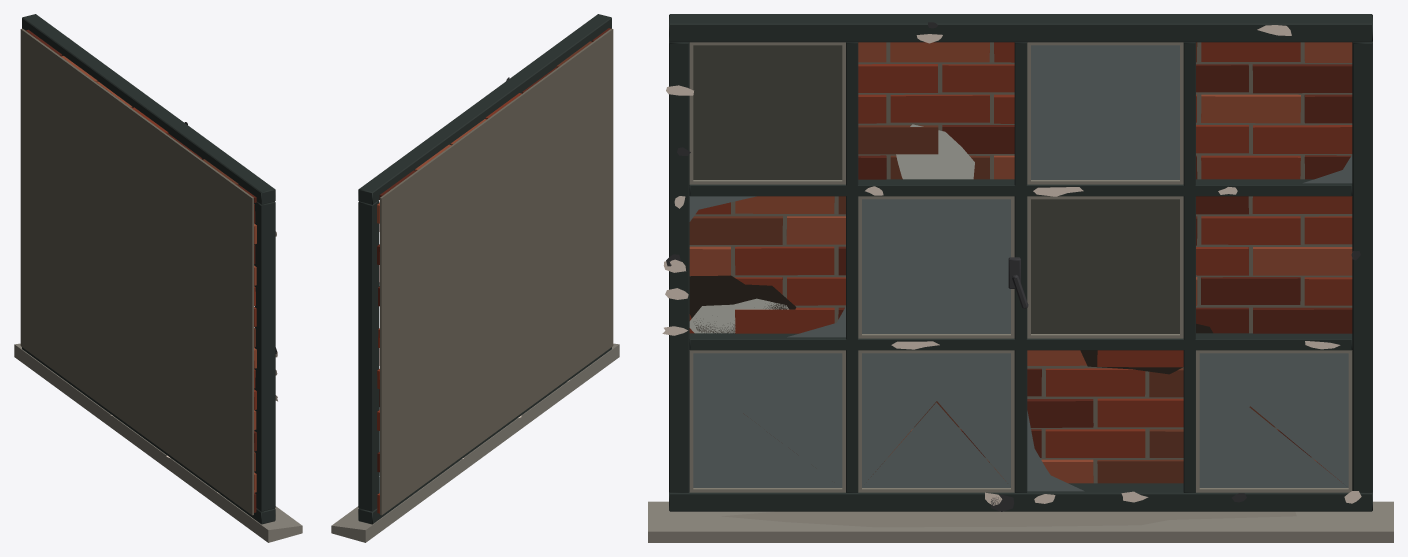
Rendered from window_brick.glb.
3 views of the same model, side by side, from view 1: azimuth 30°, elevation 25°; view 2: azimuth 150°, elevation 25°; view 3: azimuth 270°, elevation 25° (orthographic). The views are drawn at different scales.
Parts seen in each view (by area): view 1: teil, teil.007, teil.013, teil.003, teil.001; view 2: teil, teil.007, teil.013, teil.001, teil.004; view 3: teil.009, teil.007, teil.004, teil.010, teil.001, teil.008, teil.013, teil.003, teil, teil.002, teil.014, teil.005 (+3 smaller).
Boxes of the visible parts, x1,y1,x2,y2 form: teil: (20,28,253,515); teil.007: (22,14,275,524); teil.013: (14,343,302,542); teil.003: (61,56,256,492); teil.001: (26,29,256,512); teil: (380,28,613,515); teil.007: (358,14,611,524); teil.013: (331,343,619,542); teil.001: (377,28,610,472); teil.004: (377,93,521,513); teil.009: (689,45,1352,491); teil.007: (669,14,1372,511); teil.004: (689,42,1352,480); teil.010: (693,45,1179,333); teil.001: (838,64,1352,457); teil.008: (689,42,1352,492); teil.013: (648,501,1393,542); teil.003: (689,42,1352,483); teil: (689,42,1352,483); teil.002: (689,42,1275,483); teil.014: (721,511,1296,527); teil.005: (689,124,974,333).
Bounding box in the file's own units: 0.16 × 1.35 × 1.8.
